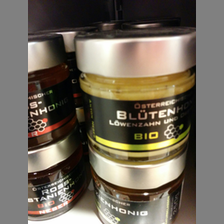honey: (71, 27, 195, 162), (85, 142, 191, 224)
